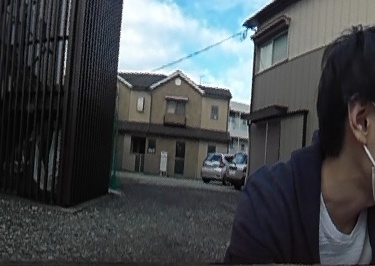person: (235, 26, 375, 266)
